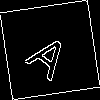A: (24, 24, 79, 82)
